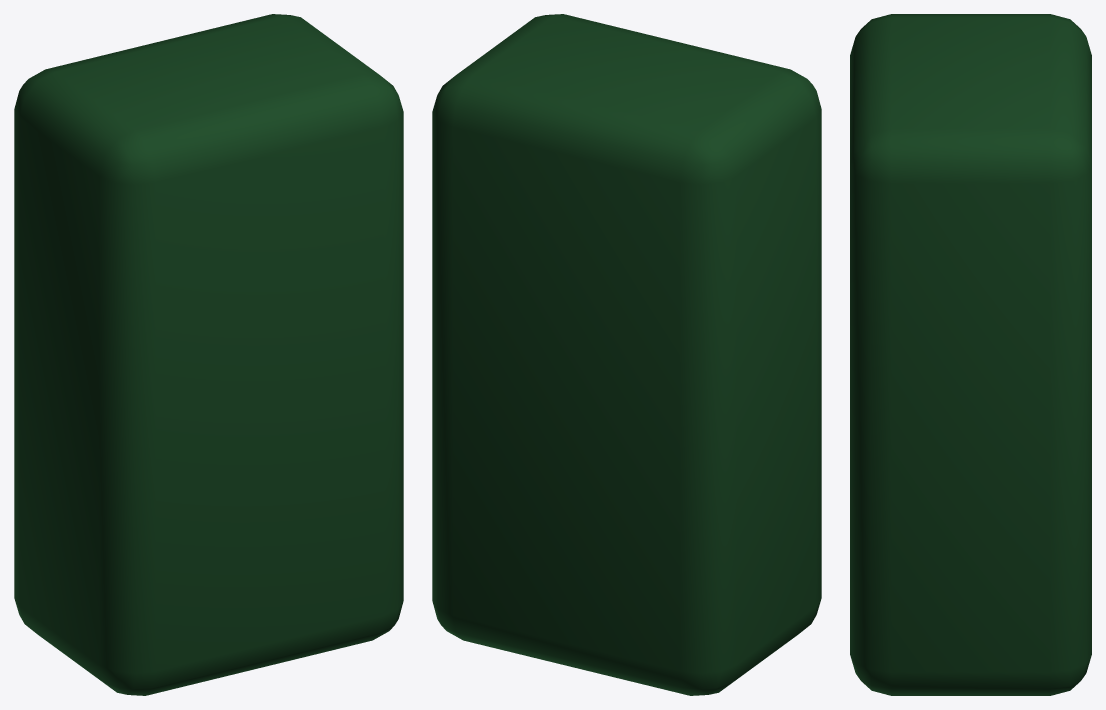
The model's file is landscape.hedge.h1800.glb.
3 views of the same model, side by side, from view 1: azimuth 30°, elevation 25°; view 2: azimuth 150°, elevation 25°; view 3: azimuth 270°, elevation 25° (orthographic).
Parts seen in each view (by area): view 1: main__foliage_dark; view 2: main__foliage_dark; view 3: main__foliage_dark.
Boxes of the visible parts, x1,y1,x2,y2 form: main__foliage_dark: (14,14,403,695); main__foliage_dark: (432,14,821,695); main__foliage_dark: (850,14,1091,695).
Bounding box in the file's own units: 1 × 1.8 × 0.7.
